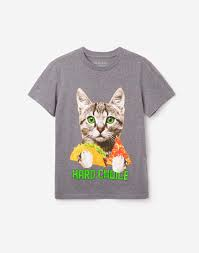cat: (71, 86, 131, 145)
